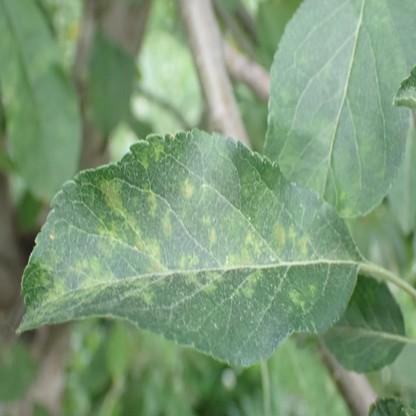powdery_mildew: (20, 307, 50, 328), (397, 87, 416, 102)
scab: (123, 208, 163, 273), (337, 169, 364, 218), (227, 231, 261, 267), (273, 122, 295, 175), (125, 277, 153, 308), (101, 177, 122, 216), (41, 277, 68, 307), (307, 115, 332, 146), (73, 279, 102, 302), (99, 222, 118, 255), (92, 256, 114, 282), (202, 271, 223, 294), (243, 270, 261, 295), (179, 252, 198, 270), (150, 137, 164, 161), (289, 288, 305, 309), (273, 223, 285, 247), (38, 263, 50, 287), (161, 211, 172, 236), (138, 147, 150, 168), (180, 180, 194, 197), (147, 191, 156, 217), (297, 235, 307, 256), (76, 259, 87, 275), (299, 56, 312, 69), (209, 227, 218, 243), (280, 90, 290, 104), (325, 61, 333, 77), (289, 226, 296, 237), (201, 215, 210, 223), (309, 286, 315, 297)
